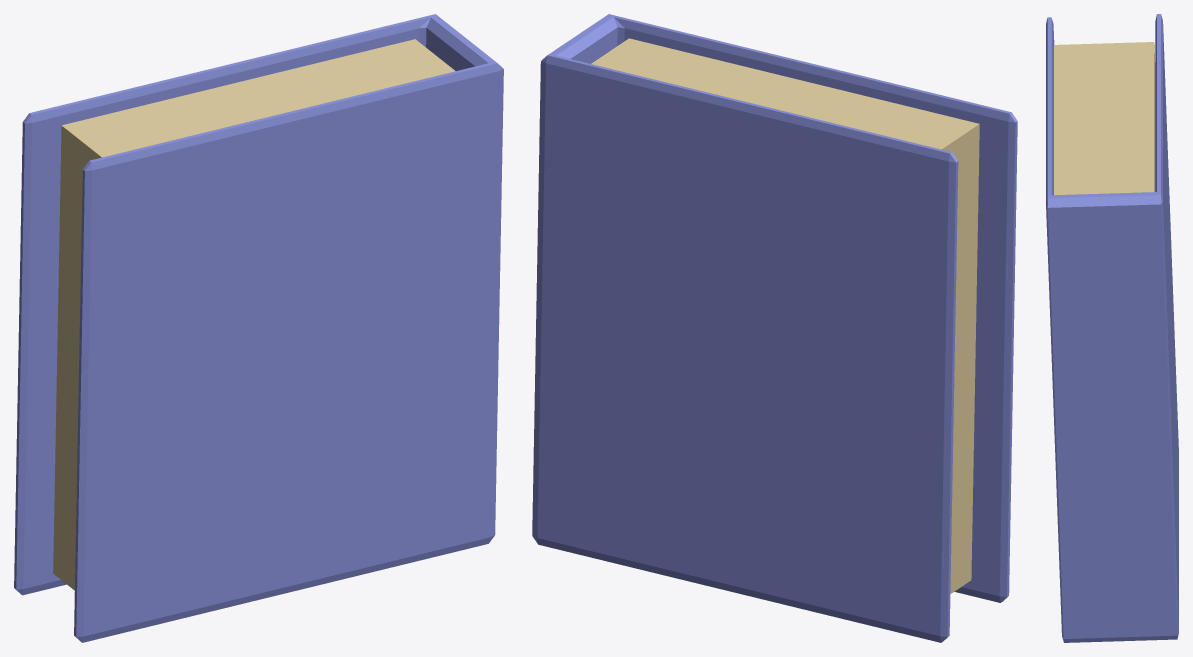
The model's file is Blue_book.fbx.
The picture shows the model from 3 angles, left to right: view 1: azimuth 30°, elevation 25°; view 2: azimuth 150°, elevation 25°; view 3: azimuth 270°, elevation 25°; orthographic projection. The views are drawn at different scales.
Parts seen in each view (by area): view 1: Book.011, Book.014; view 2: Book.011, Book.014; view 3: Book.011, Book.014.
Part boxes in pixels (box(x1,y1,x2,y2)): Book.011: box(14, 14, 503, 642); Book.014: box(53, 39, 455, 590); Book.011: box(532, 14, 1017, 642); Book.014: box(591, 38, 979, 593); Book.011: box(1046, 14, 1178, 642); Book.014: box(1054, 42, 1155, 195).
Size of the model in its own units: 0.4487 by 0.5023 by 0.1351.
